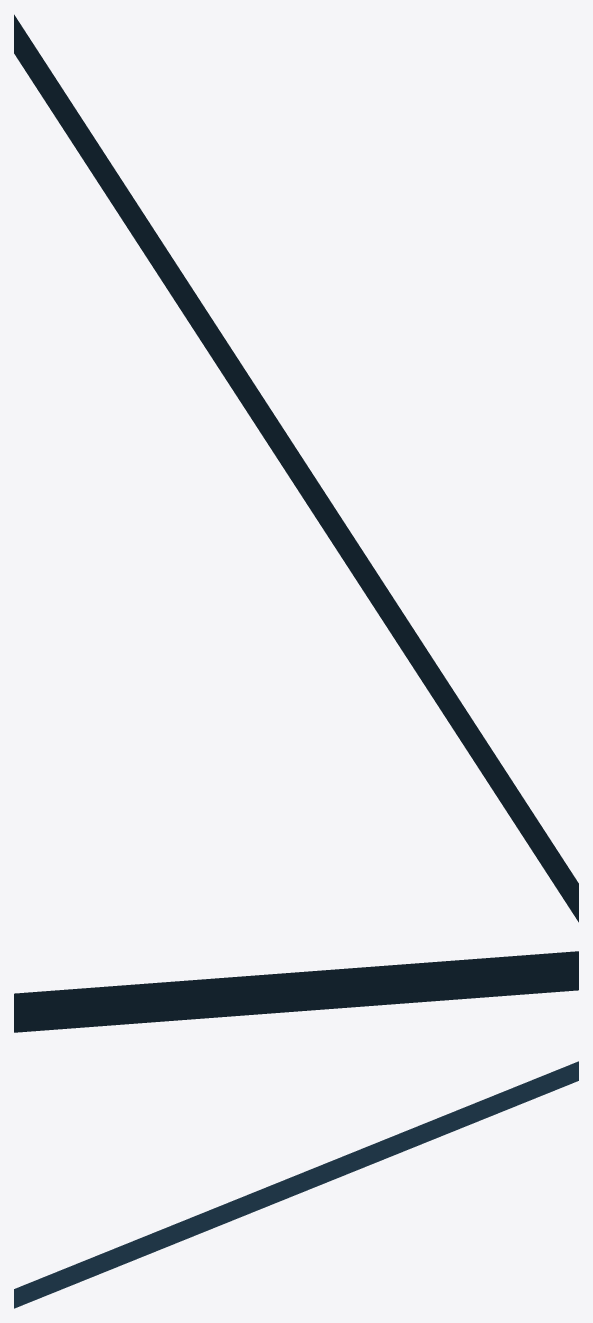
Rendered from 1107-Buildings-shell-pieces-roof-emitRoof-2-triangles-0-00-x-2-27-x-4-70-m-from-resid.glb.
The picture shows the model from 3 angles, top to bottom: view 1: azimuth 30°, elevation 25°; view 2: azimuth 210°, elevation 25°; view 3: azimuth 270°, elevation 25°; orthographic projection. The views are drawn at different scales.
Visible parts, largest first — view 1: emitRoof; view 2: emitRoof; view 3: emitRoof.
Boxes of the visible parts, x1,y1,x2,y2 form: emitRoof: [14, 14, 578, 922]; emitRoof: [14, 951, 578, 1032]; emitRoof: [14, 1061, 578, 1308].
Bounding box in the file's own units: 0 × 2.27 × 4.7.
